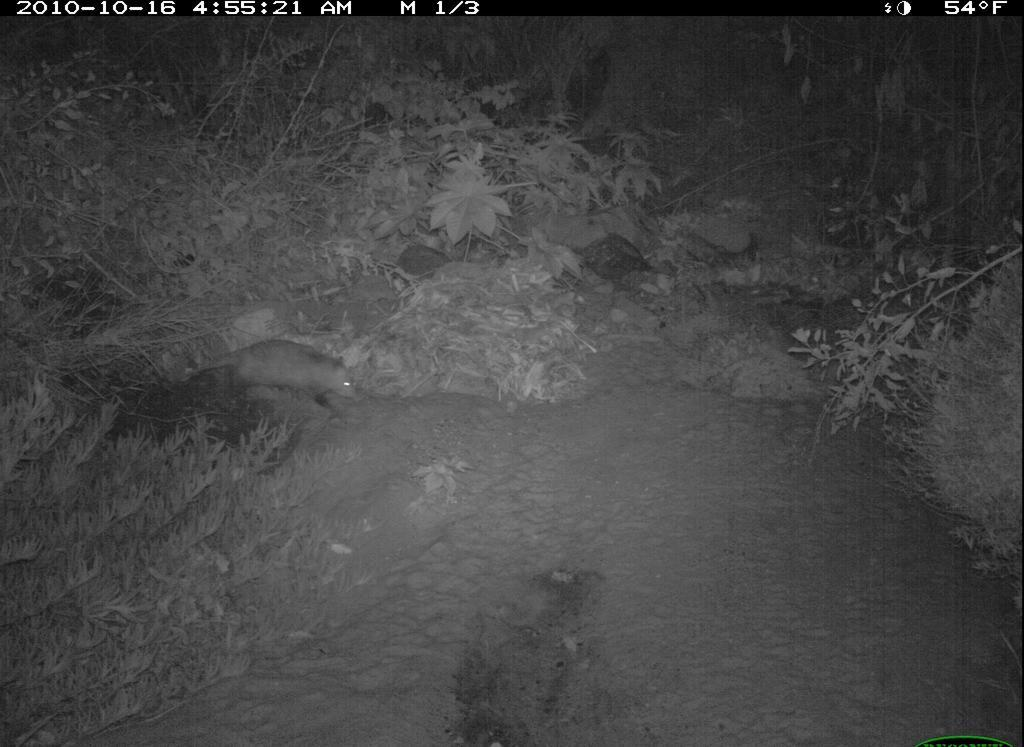opossum: (185, 336, 365, 432)
